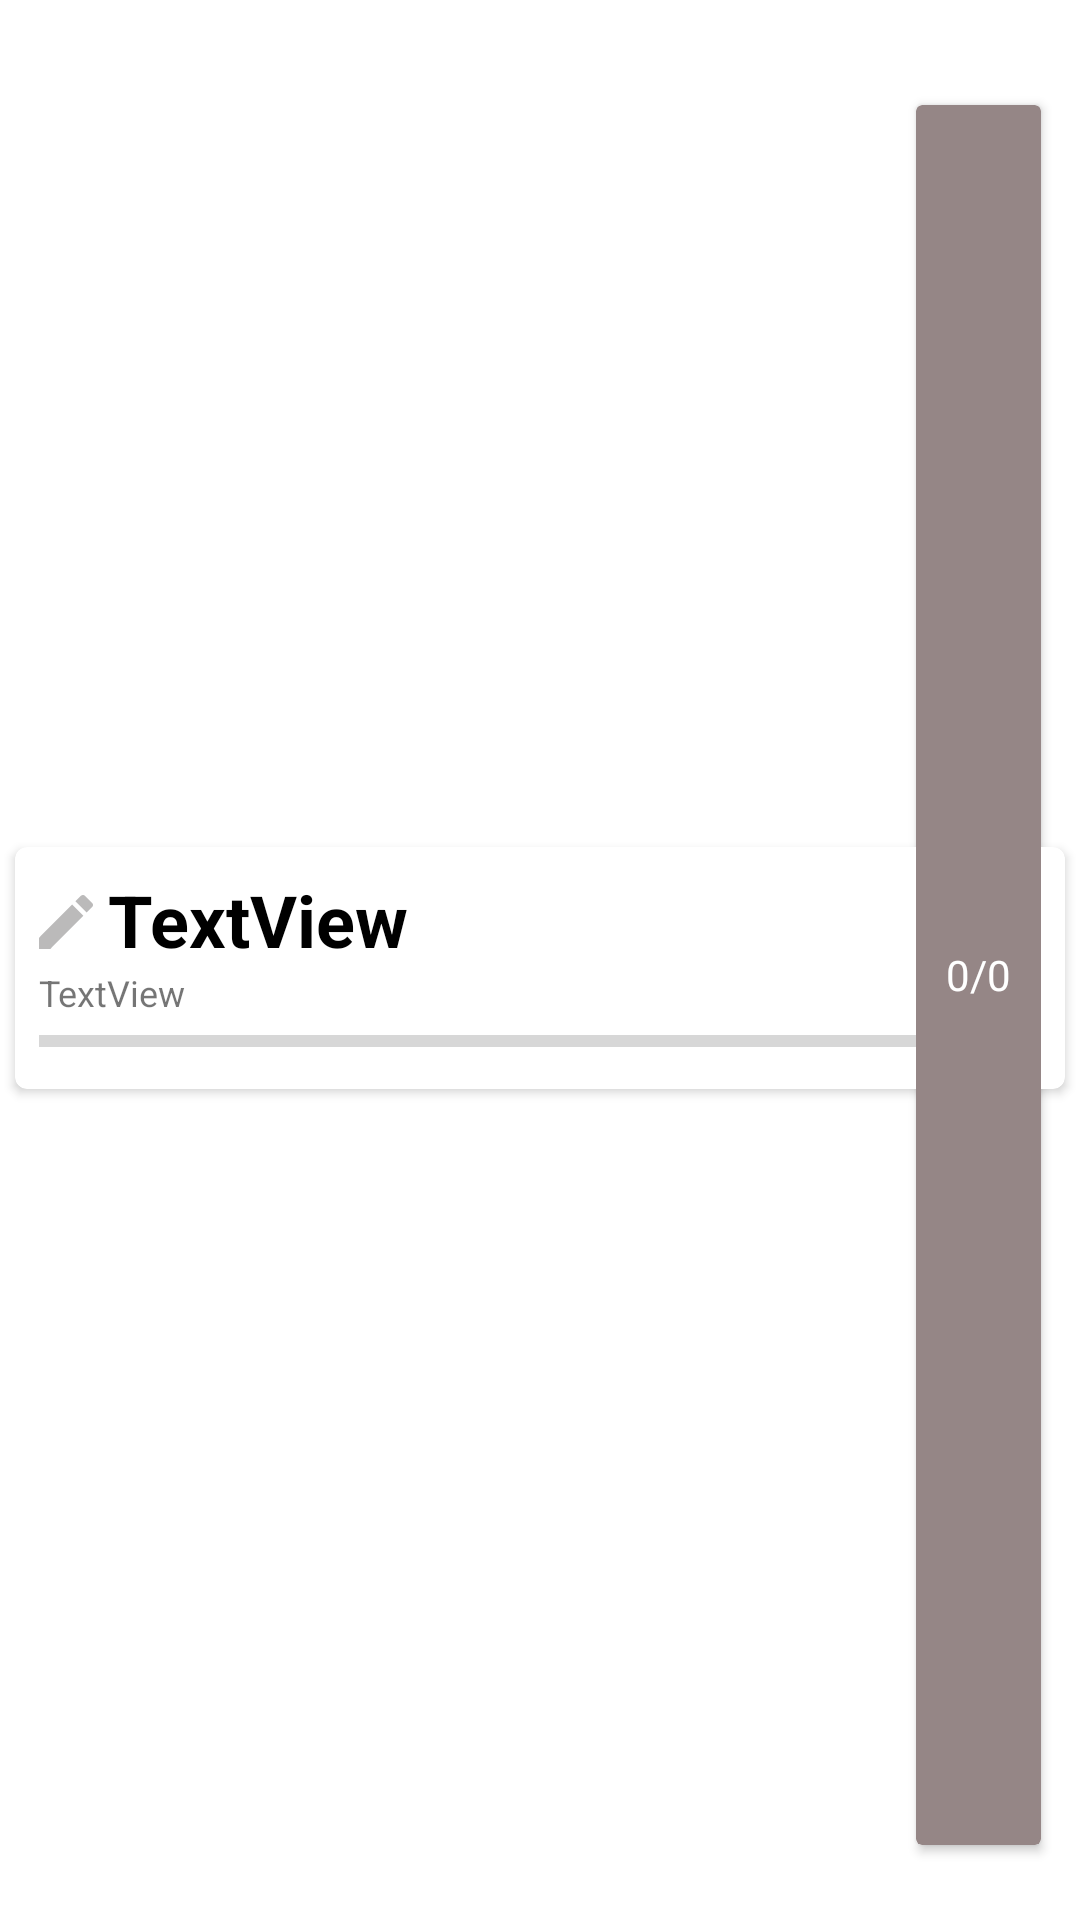

Icons on this 1080×1920 Android screen, each with its box as (x1, y1, x2, y2):
edit: (39, 895, 93, 949)
